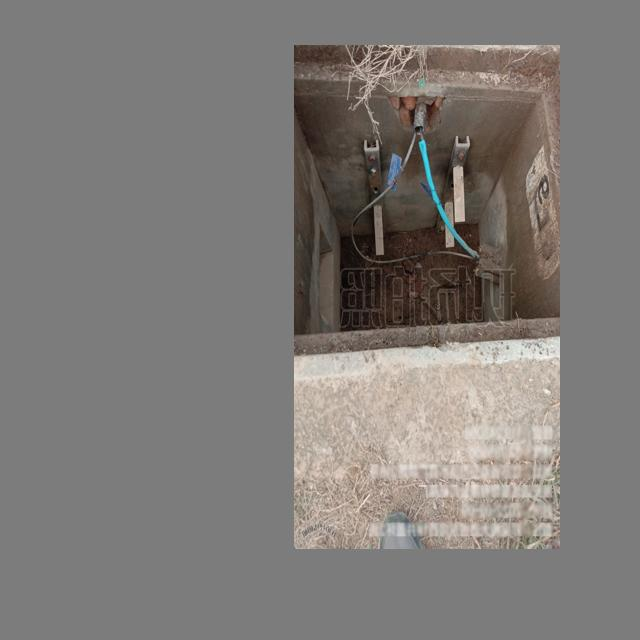lose: (294, 62, 559, 355)
